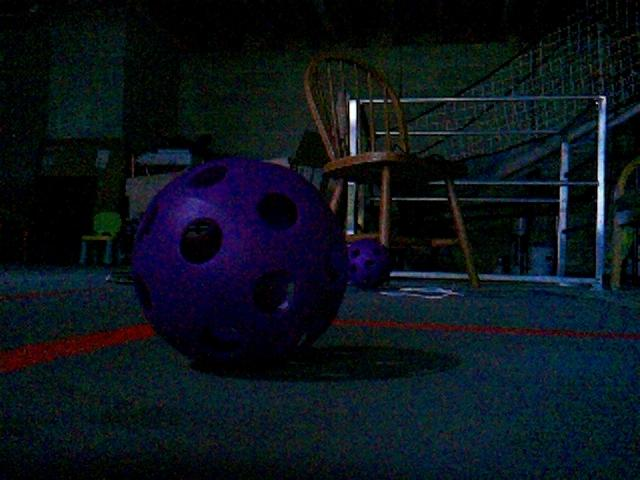Purple: (127, 157, 351, 370), (343, 235, 394, 290)
